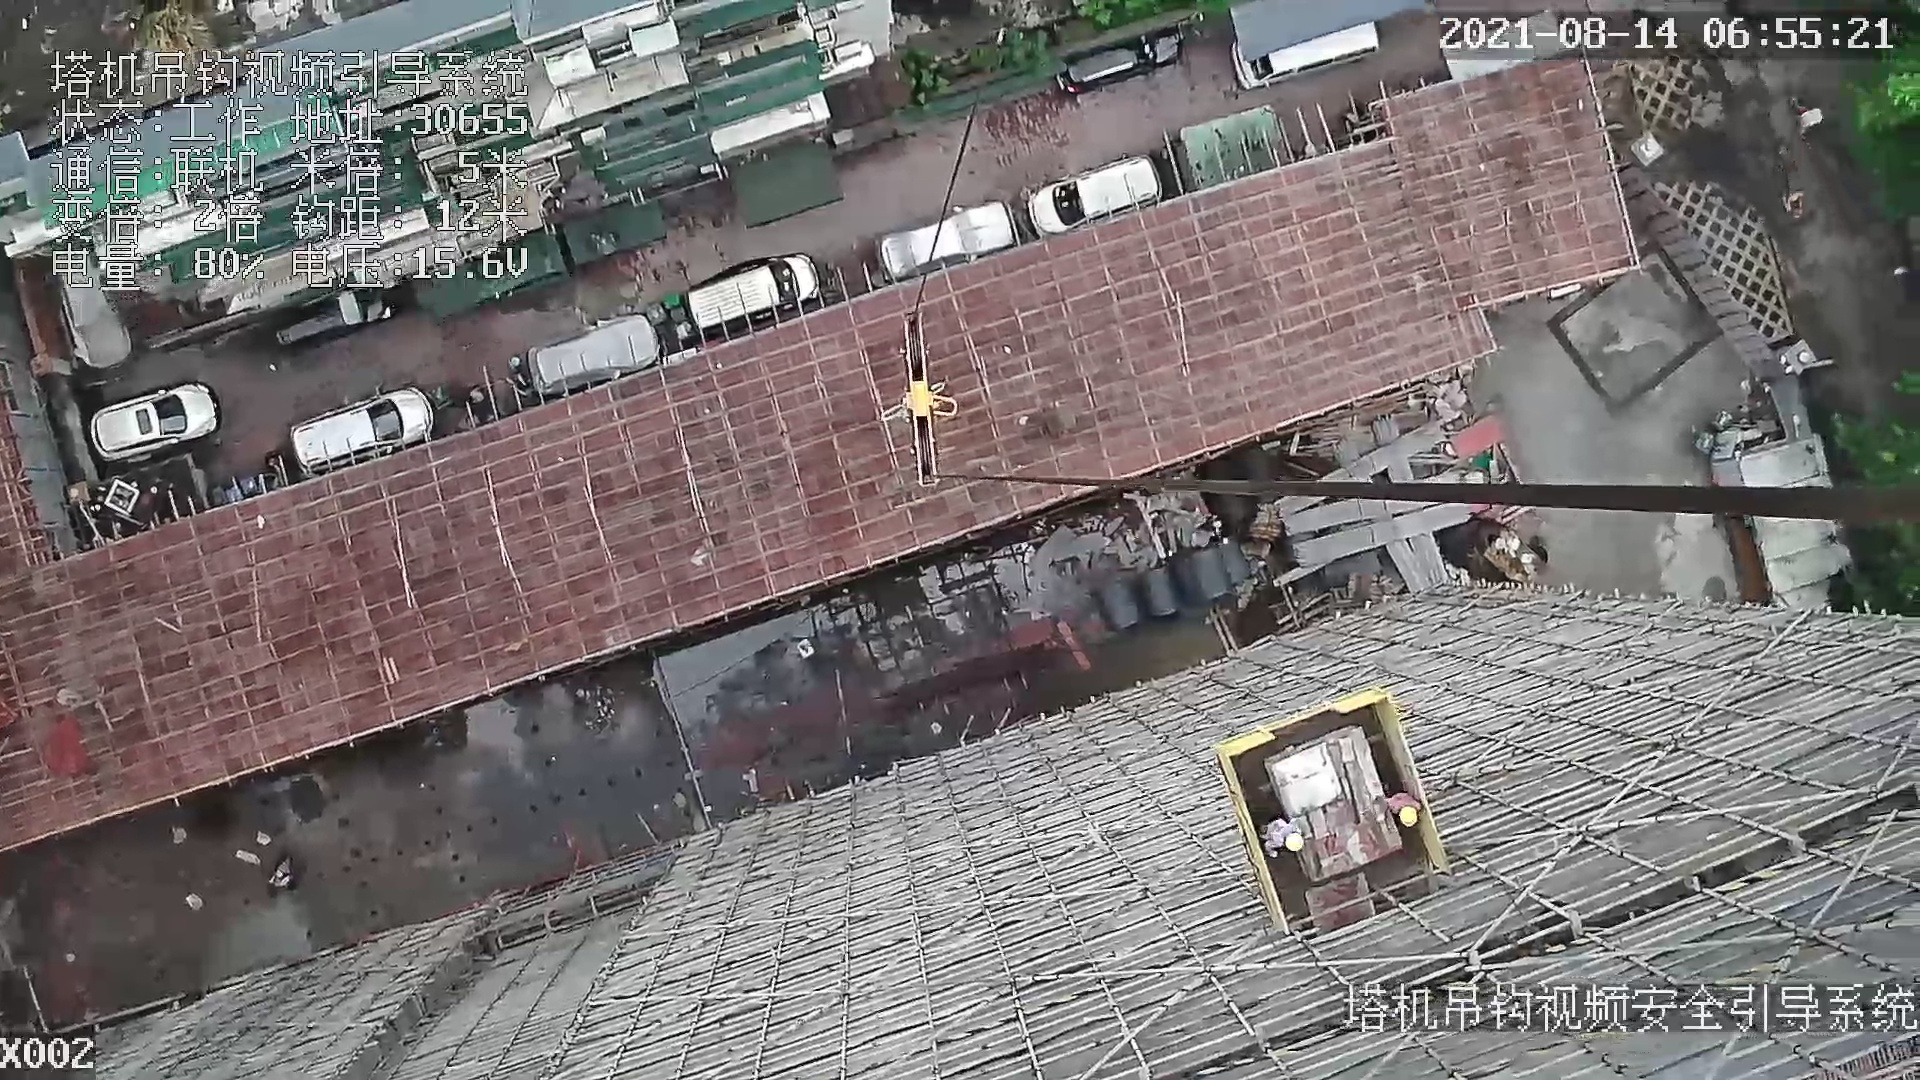board: (1262, 723, 1405, 883)
helmet: (1285, 832, 1304, 852), (1400, 806, 1417, 827)
hook: (903, 310, 959, 490)
person: (1259, 805, 1317, 858), (1374, 783, 1432, 827)
rebar: (1293, 503, 1470, 569), (1321, 422, 1445, 482), (1283, 500, 1443, 536), (1384, 539, 1432, 592), (1409, 537, 1450, 586)
